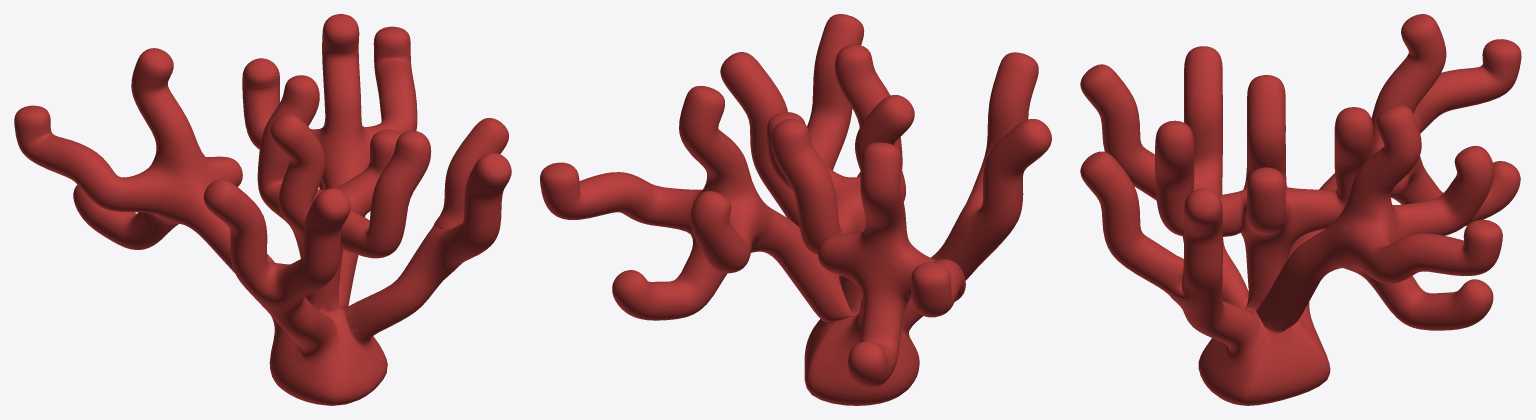
The model's file is coral 3.fbx.
The picture shows the model from 3 angles, left to right: view 1: azimuth 30°, elevation 25°; view 2: azimuth 150°, elevation 25°; view 3: azimuth 270°, elevation 25°; orthographic projection. The views are drawn at different scales.
Parts seen in each view (by area): view 1: Coral 3; view 2: Coral 3; view 3: Coral 3.
Boxes of the visible parts, x1,y1,x2,y2 form: Coral 3: (14,14,511,405); Coral 3: (540,14,1051,405); Coral 3: (1080,14,1521,405).
Size of the model in its own units: 160 by 123 by 151.
